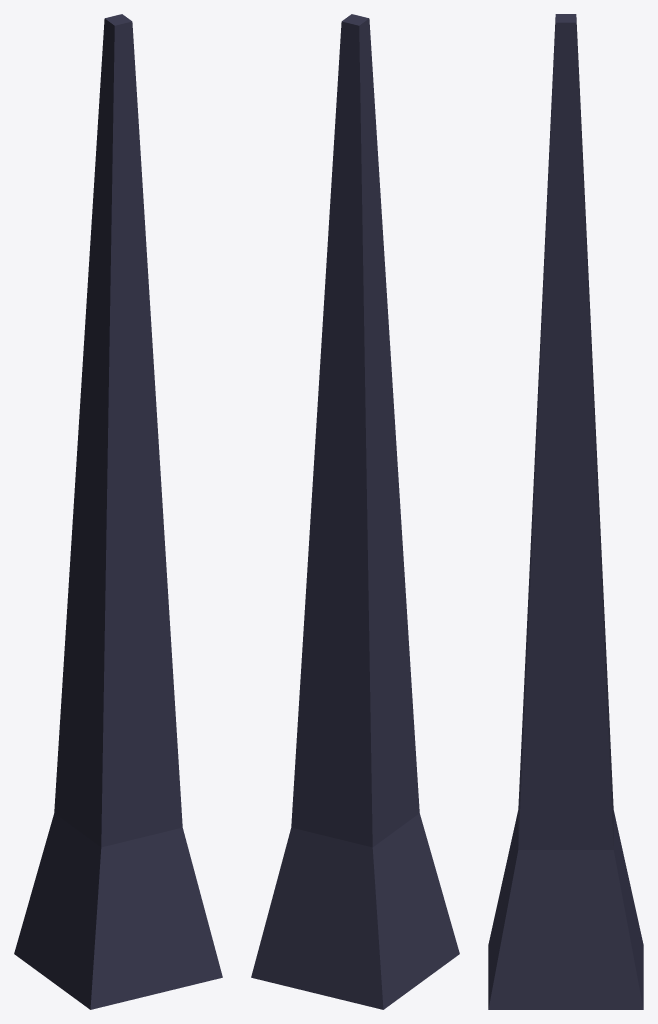
Rendered from Burned_Pinetree.fbx.
3 renders of one model, left to right at view 1: azimuth 30°, elevation 25°; view 2: azimuth 150°, elevation 25°; view 3: azimuth 270°, elevation 25°, orthographic.
Parts seen in each view (by area): view 1: Cube.005; view 2: Cube.005; view 3: Cube.005.
Part boxes in pixels (x1=…): Cube.005: x1=14, y1=14, x2=222, y2=1009; Cube.005: x1=251, y1=14, x2=459, y2=1009; Cube.005: x1=488, y1=14, x2=643, y2=1009.
Size of the model in its own units: 197 by 1344 by 197.
